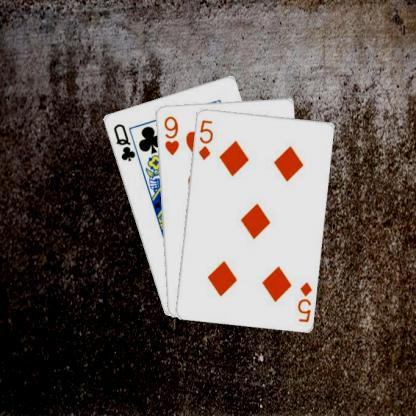5D: (294, 279, 314, 323), (195, 117, 214, 161)
9H: (160, 113, 180, 156)
QC: (110, 121, 136, 163)
